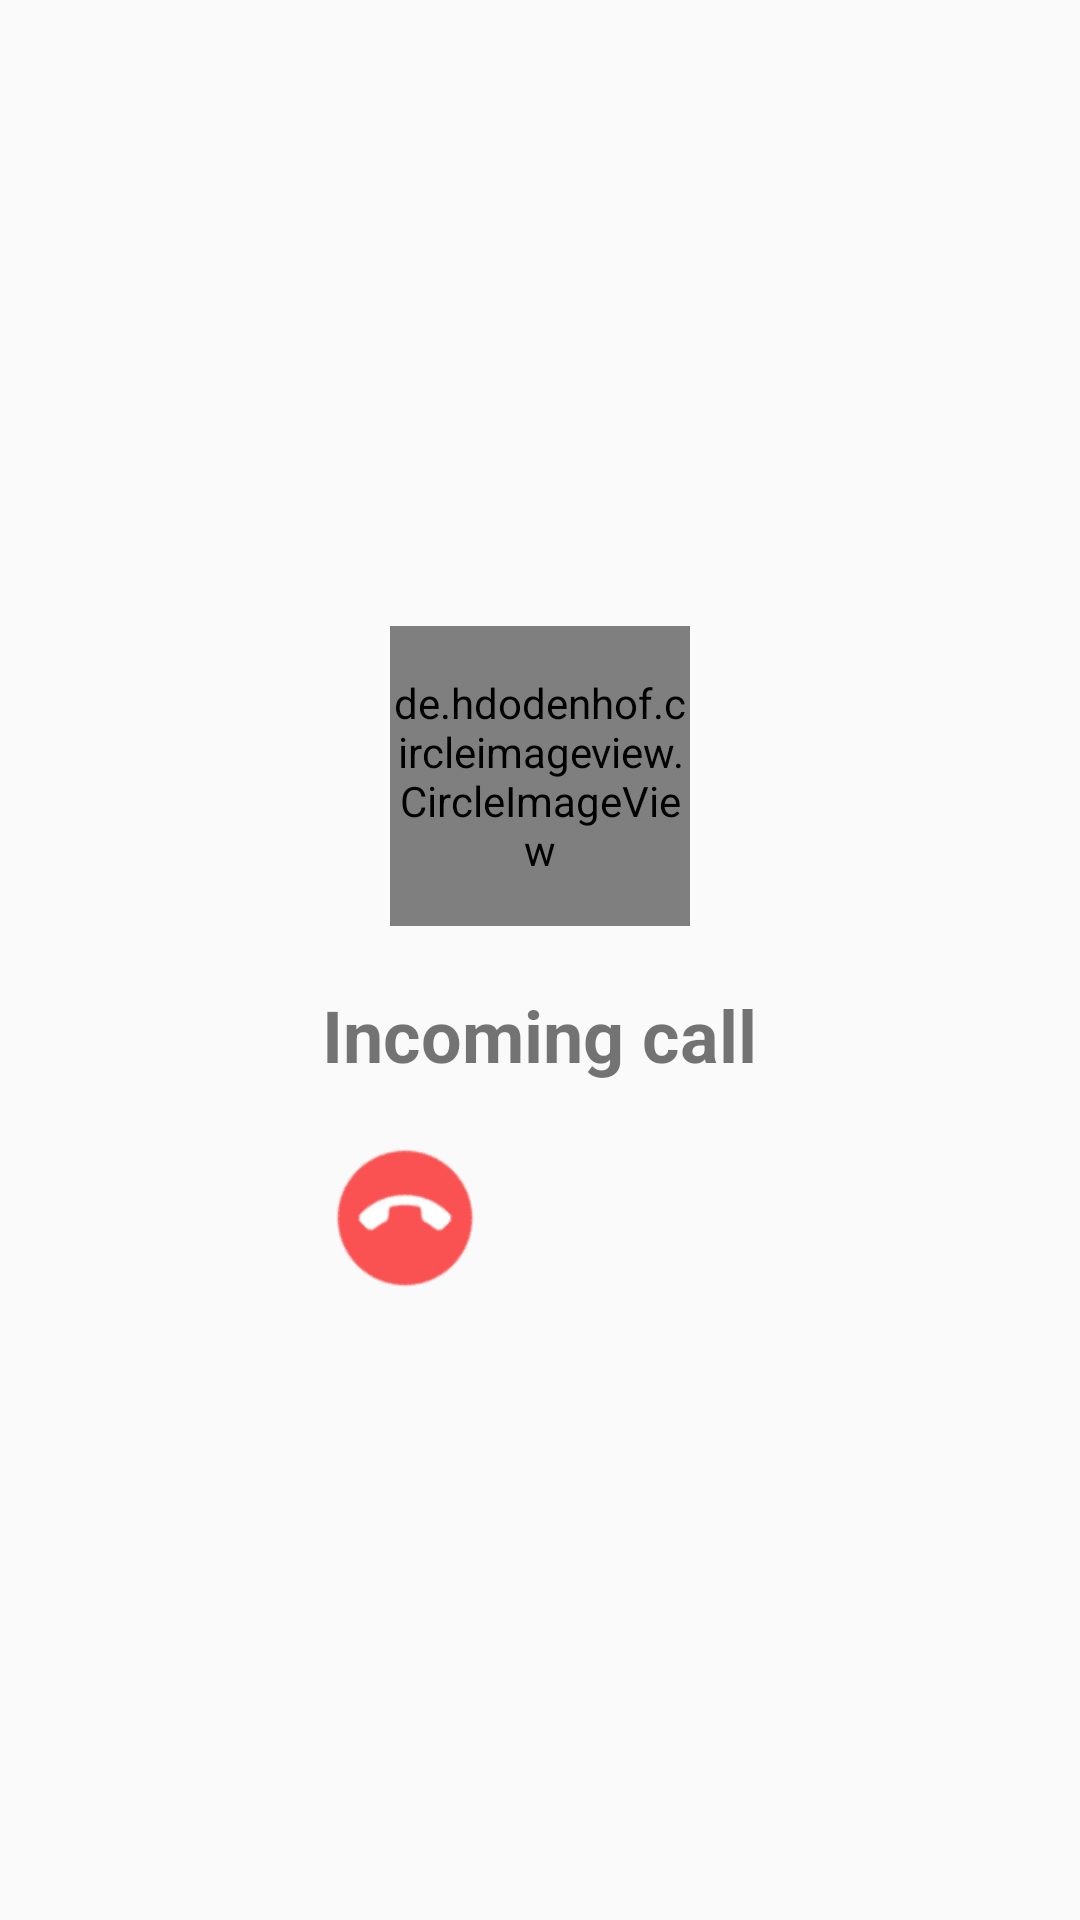

Screen size 1080 x 1920. Icon name, then its box in pixels as (x1, y1, x2, y2):
hang: (337, 1150, 473, 1286)
